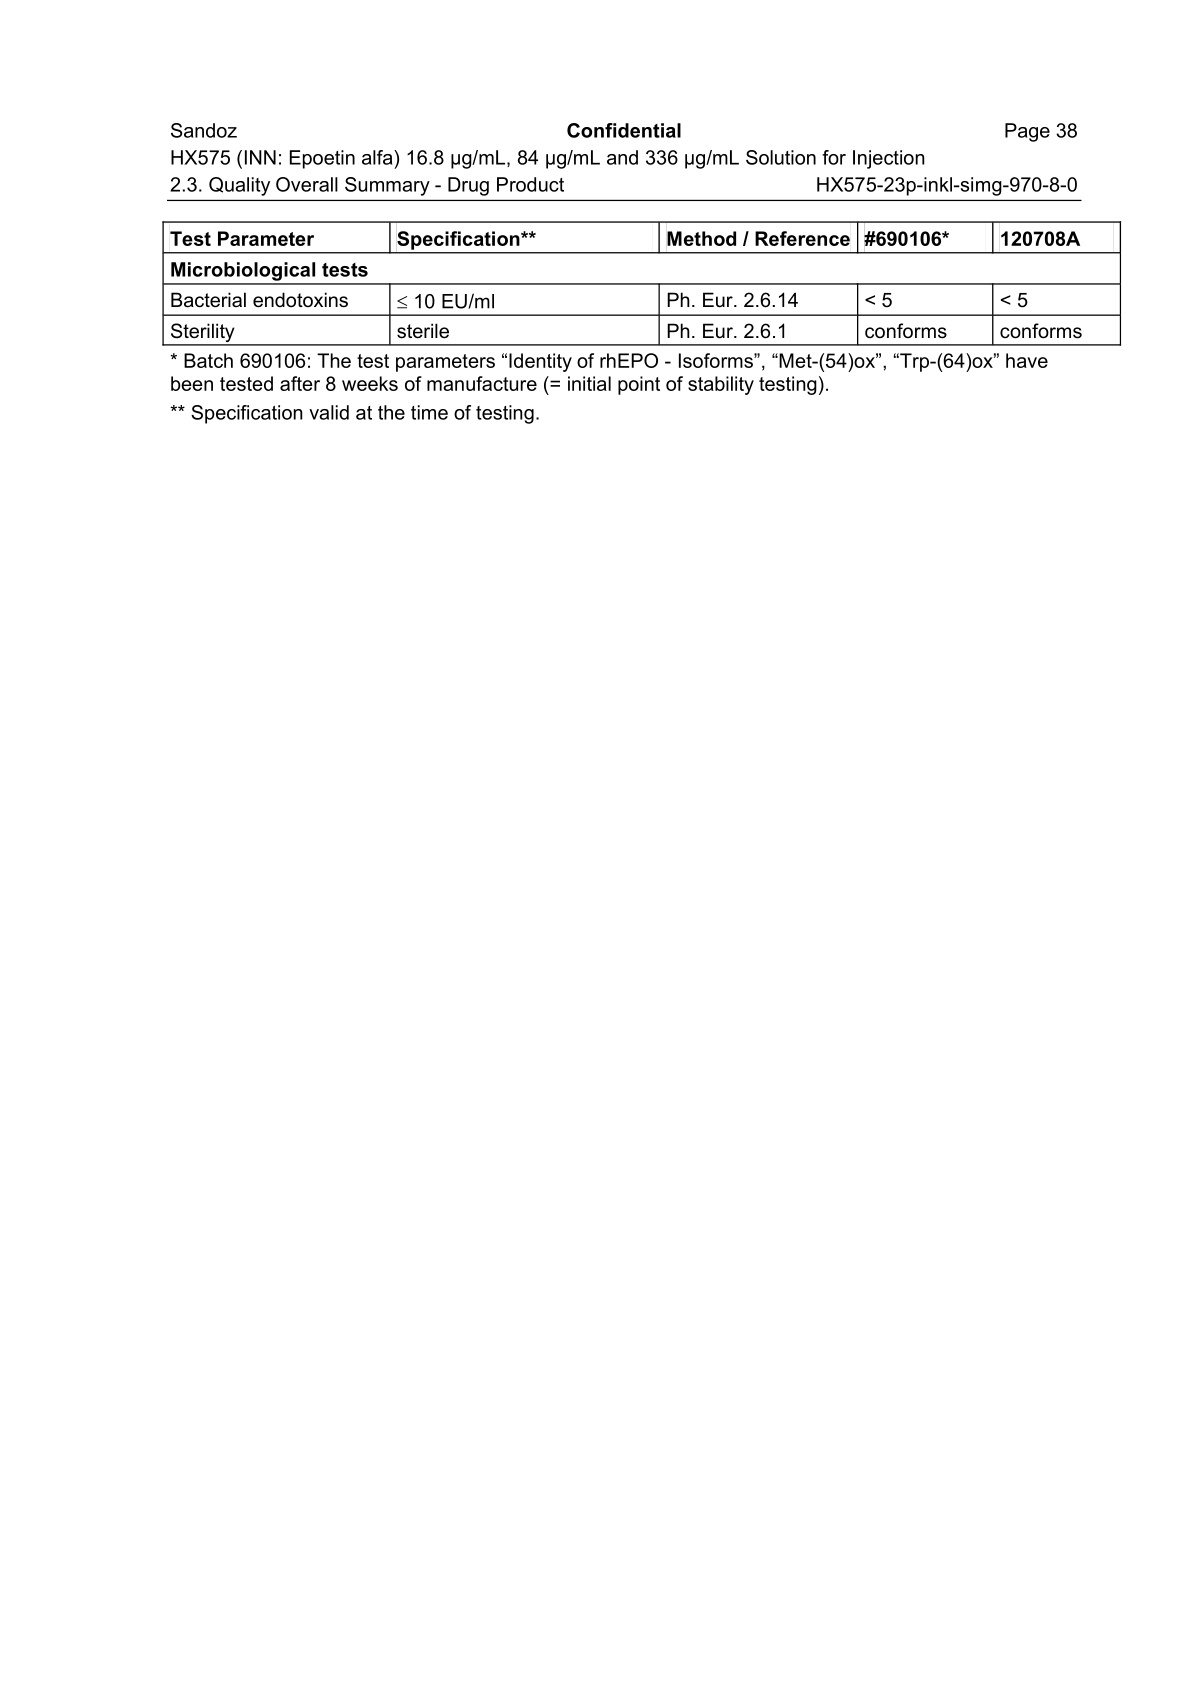merged_cells: (160, 220, 1121, 347)
